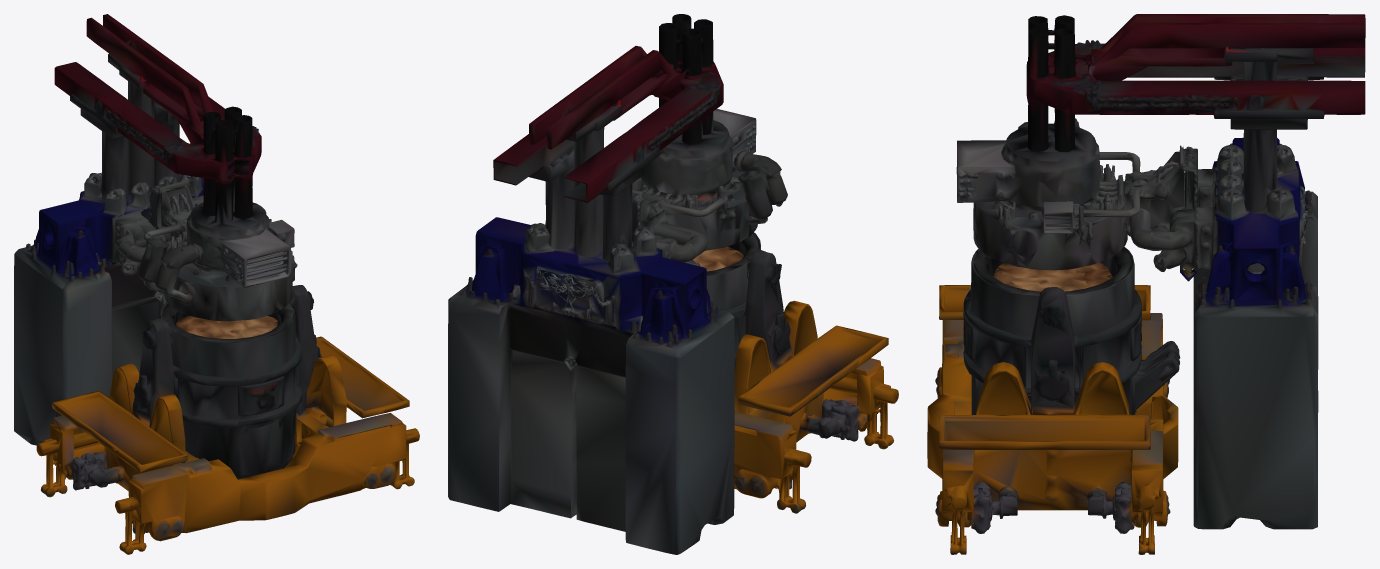
The model's file is lrf.glb.
3 renders of one model, left to right at view 1: azimuth 30°, elevation 25°; view 2: azimuth 150°, elevation 25°; view 3: azimuth 270°, elevation 25°, orthographic. The views are drawn at different scales.
Bounding box in the file's own units: 0.8257 × 0.9973 × 0.876.
